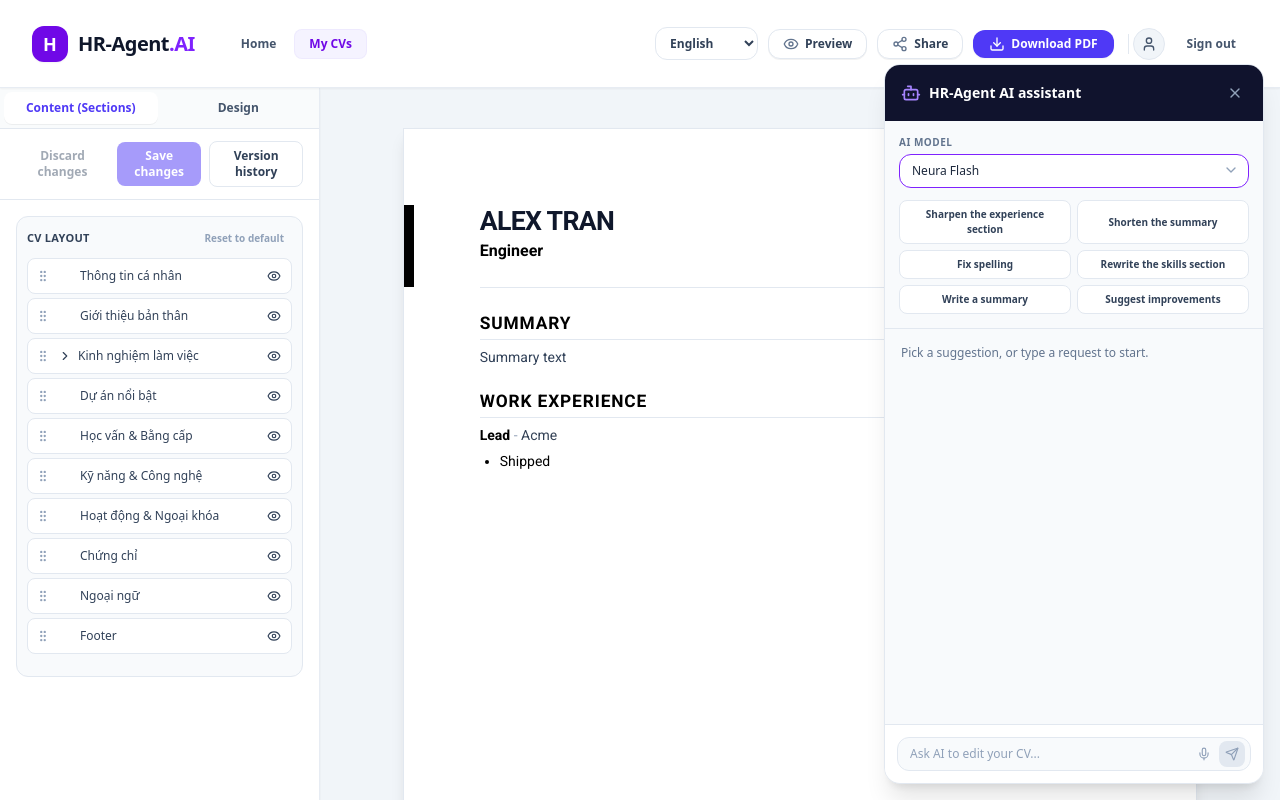
Test case: bộ chọn ngôn ngữ CV › đổi selector thì tiêu đề mục trong trang giấy đổi theo
This screenshot has width=1280, height=800.
Check: the heading "WORK EXPERIENCE" is shown, box [480, 390, 1120, 418]
Step 1. Select "Tiếng Việt" in the dropdown named "CV language" → (706, 44), box [655, 27, 758, 60]
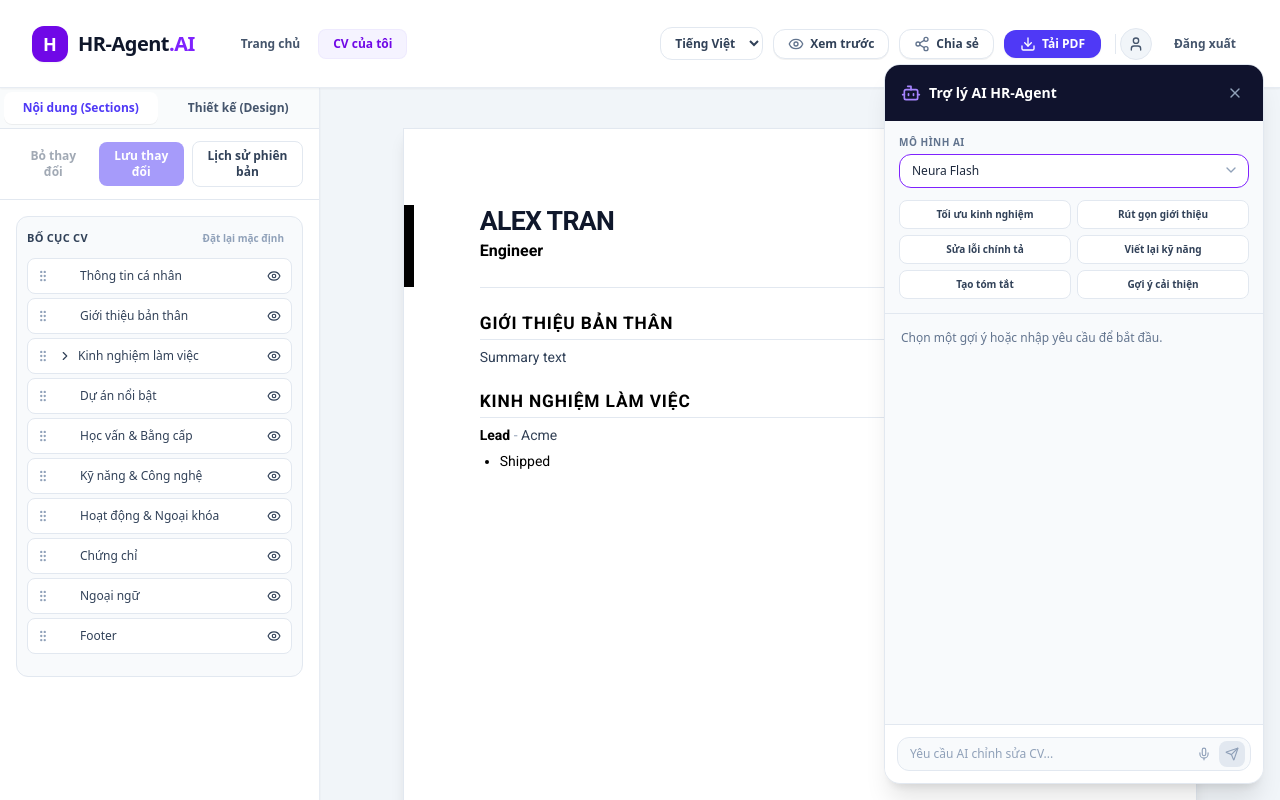
Check: the heading "KINH NGHIỆM LÀM VIỆC" is shown, box [480, 390, 1120, 418]
Check: the heading "WORK EXPERIENCE" is gone
